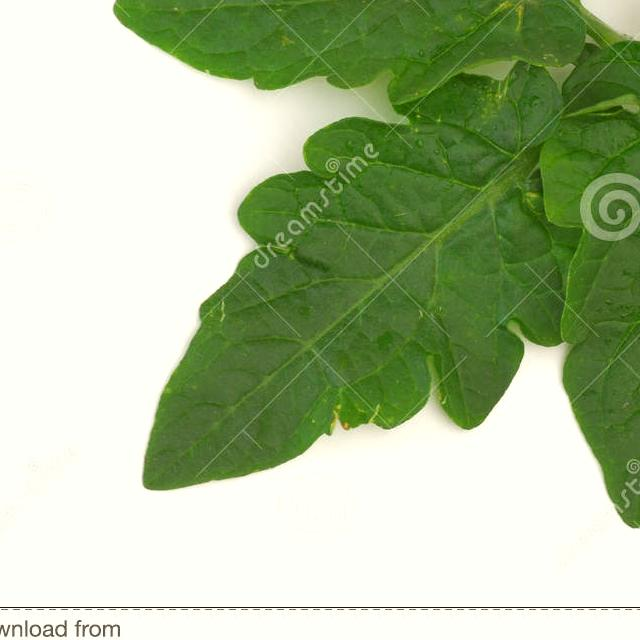Tomato leaf: (143, 26, 640, 525), (510, 63, 640, 559), (183, 0, 640, 134)
